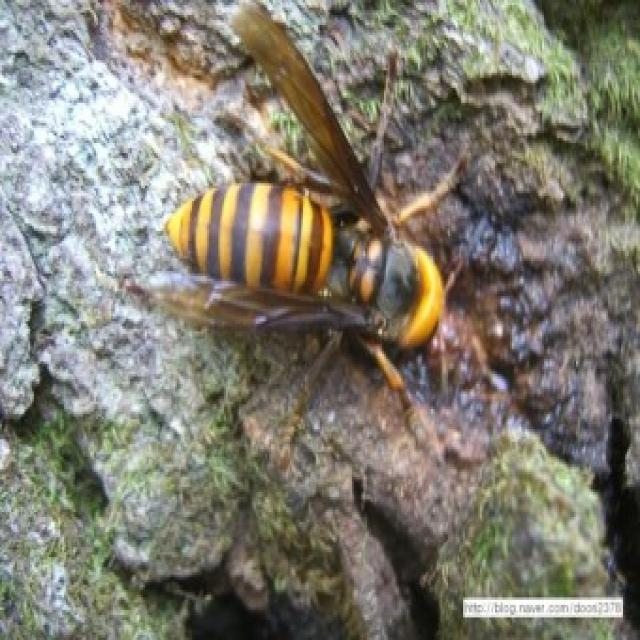Wasp: (152, 8, 458, 442)
